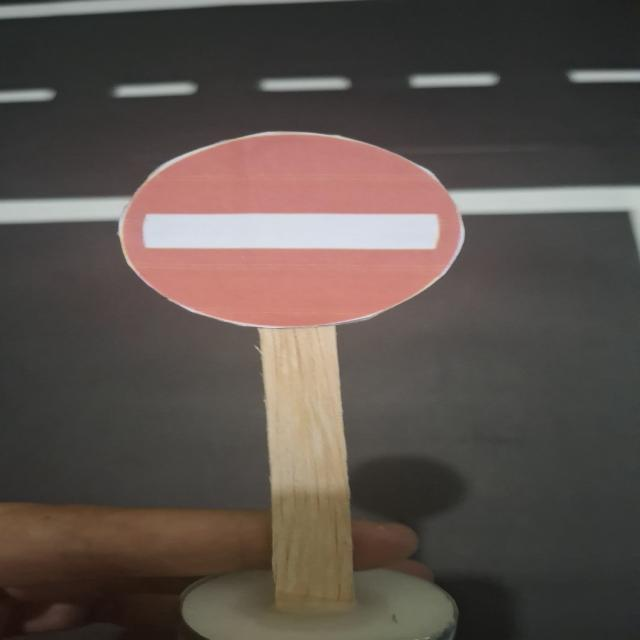Dilarang Masuk: (121, 132, 465, 328)
